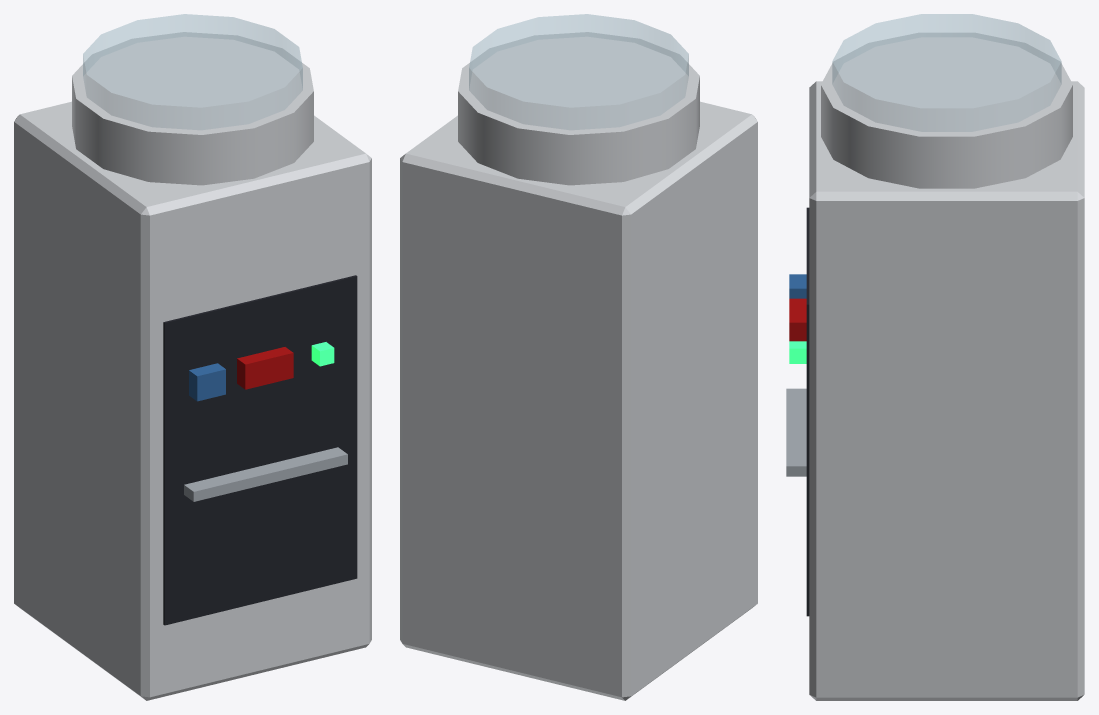
Rendered from water_cooler.glb.
3 views of the same model, side by side, from view 1: azimuth 30°, elevation 25°; view 2: azimuth 150°, elevation 25°; view 3: azimuth 270°, elevation 25° (orthographic). The views are drawn at different scales.
Visible parts, largest first — view 1: water_cooler; view 2: water_cooler; view 3: water_cooler.
Boxes of the visible parts, left/top/right/bottom form: water_cooler: left=14, top=14, right=371, bottom=700; water_cooler: left=400, top=14, right=757, bottom=700; water_cooler: left=786, top=14, right=1084, bottom=700.
Bounding box in the file's own units: 0.48 × 1.12 × 0.52.
